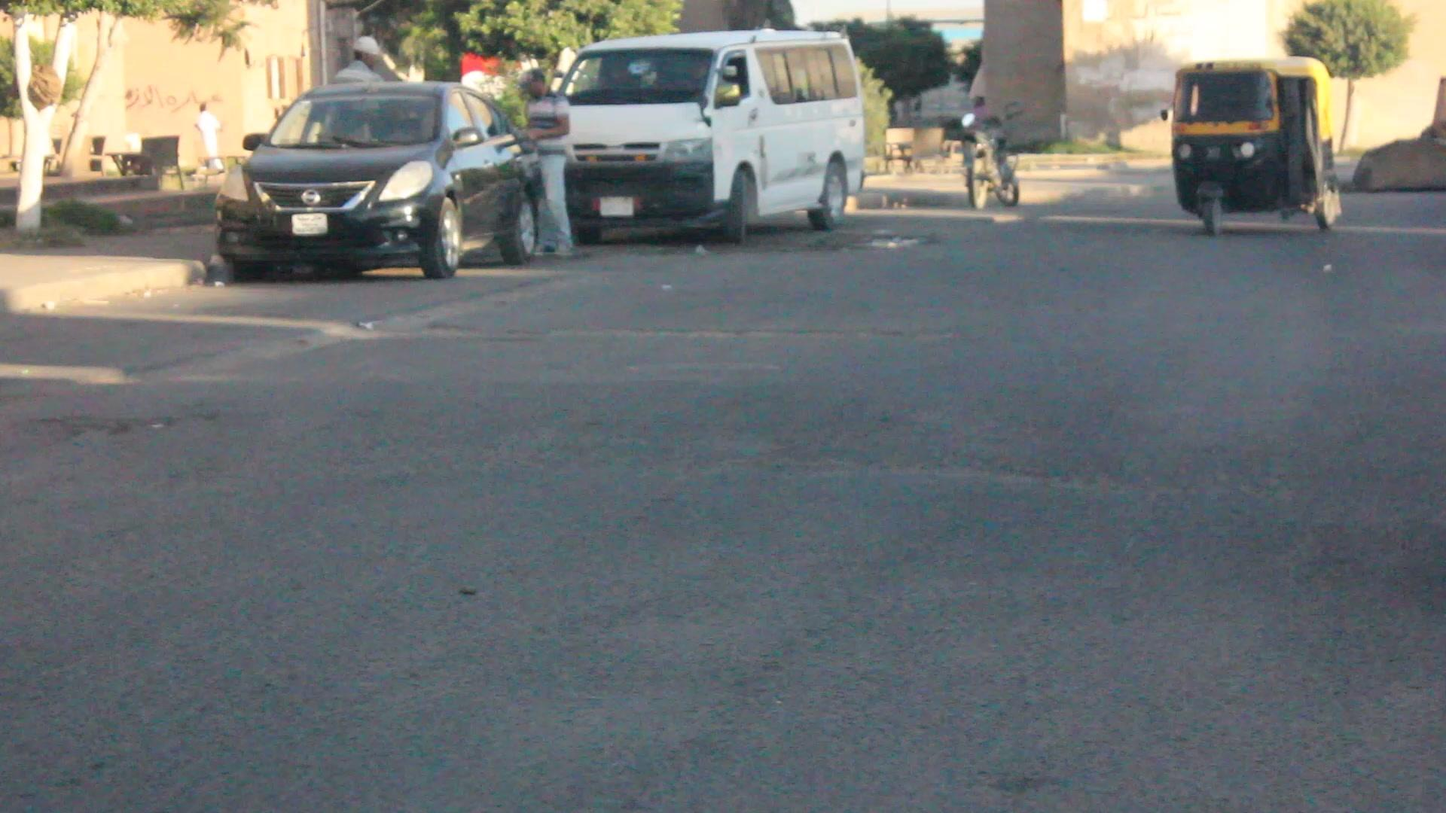Bump: (247, 373, 1446, 491)
